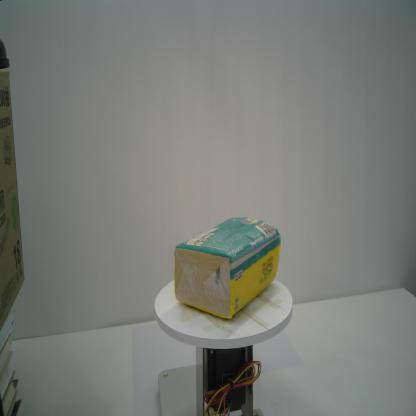Tissue: (171, 215, 282, 322)
